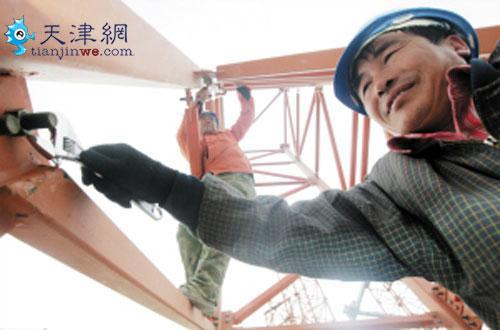helmet: (315, 2, 497, 157)
